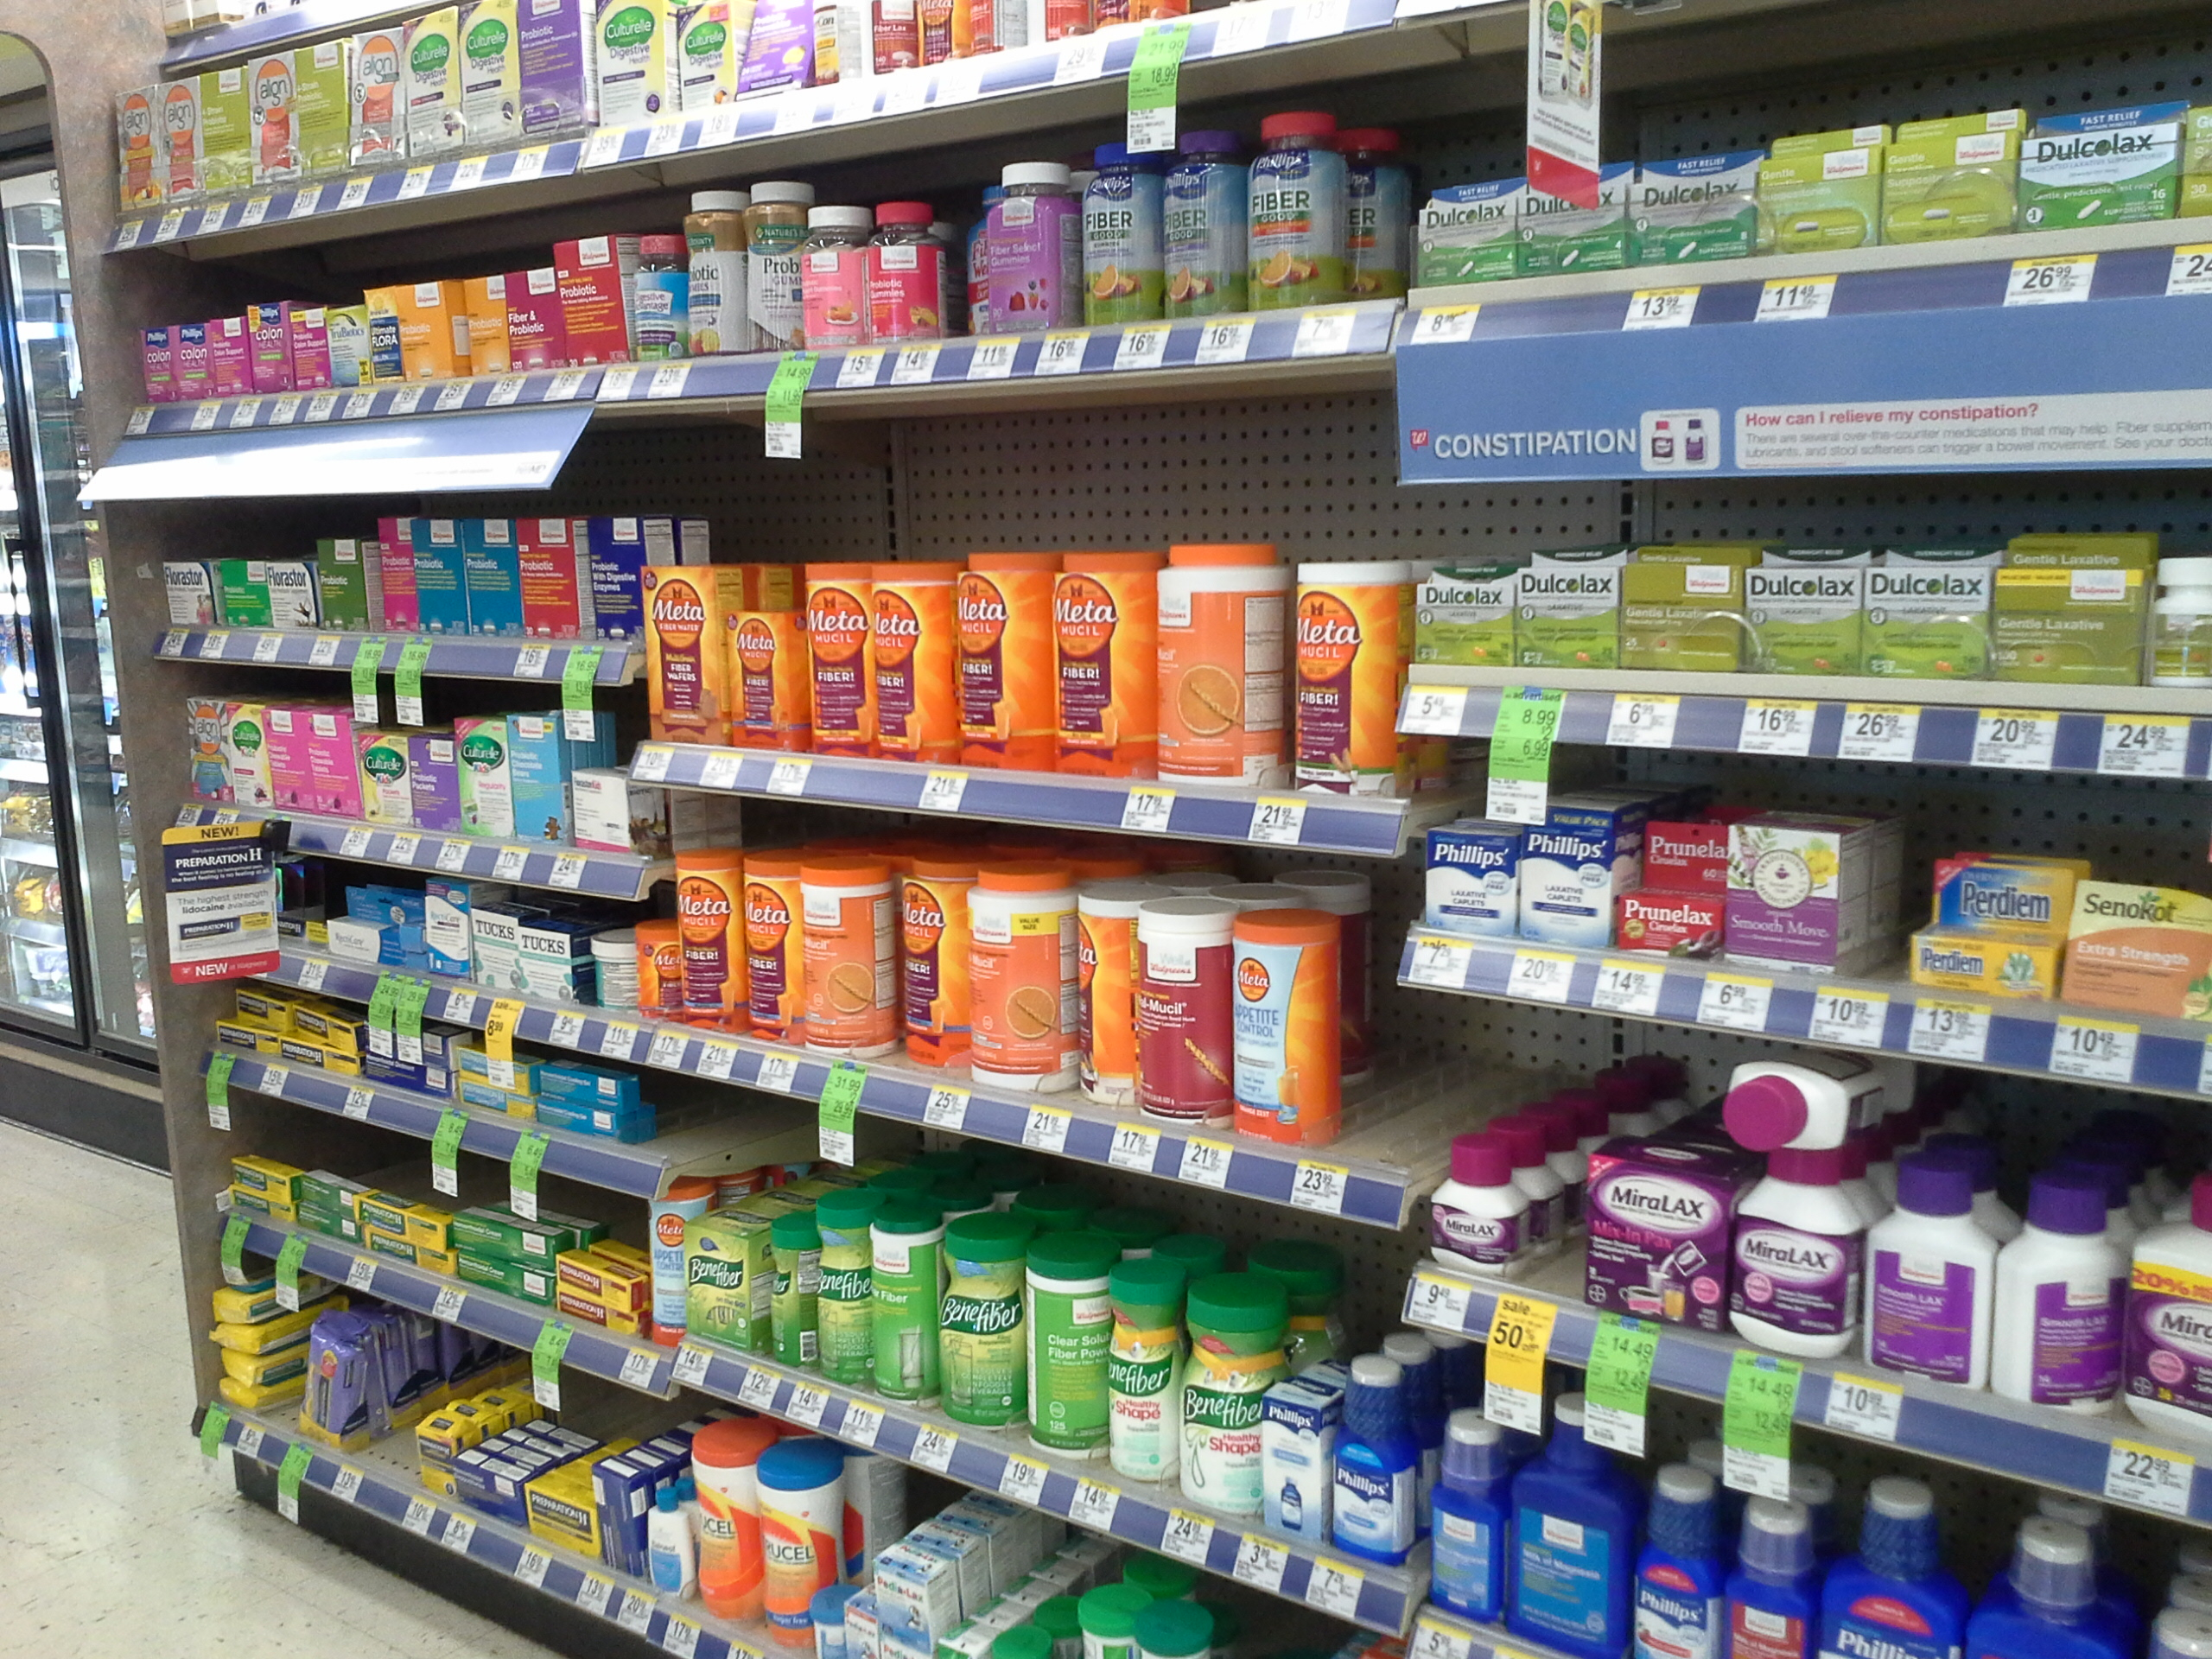Out-of-stock: (1287, 1011, 1571, 1197), (1322, 120, 1402, 349), (341, 1354, 420, 1481), (244, 1297, 312, 1436)
